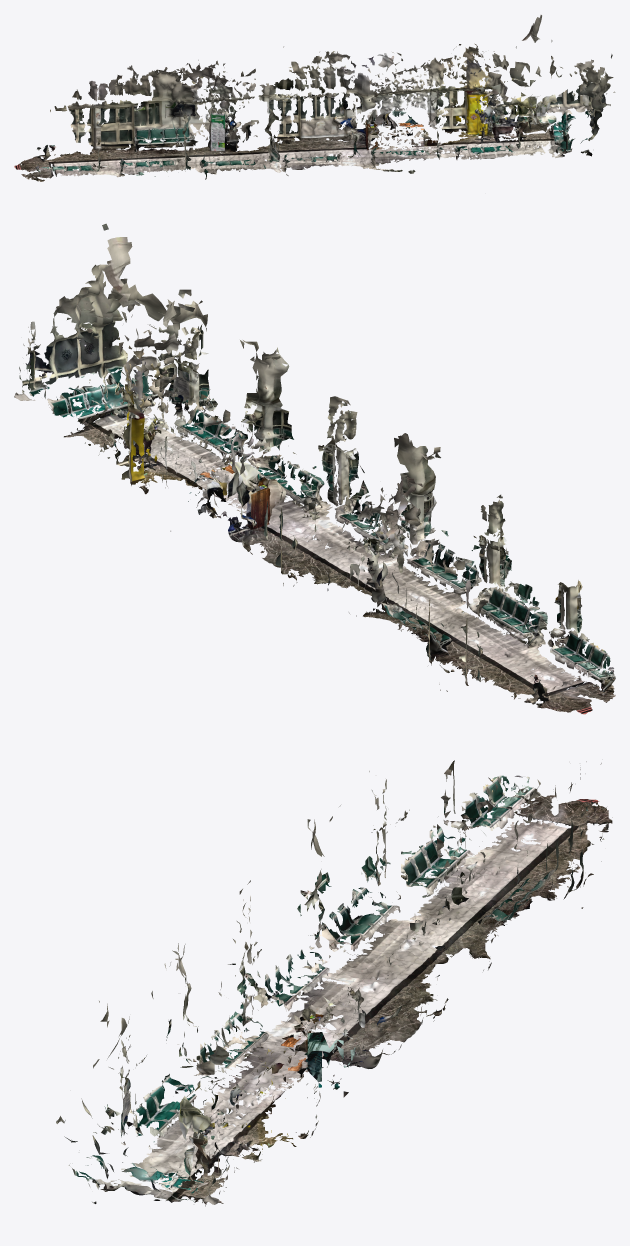
File: 140527-PoliKiri-tex.glb
3 views of the same model, one above another, from view 1: azimuth 30°, elevation 25°; view 2: azimuth 150°, elevation 25°; view 3: azimuth 270°, elevation 25° (orthographic). The views are drawn at different scales.
Visible parts, largest first — view 1: Node; view 2: Node; view 3: Node.
Part boxes in pixels (box(x1,y1,x2,y2)): Node: box(14, 15, 615, 181); Node: box(14, 223, 615, 714); Node: box(56, 760, 612, 1206).
Size of the model in its own units: 21.97 by 7.53 by 12.41.
30 materials, 30 textured.
